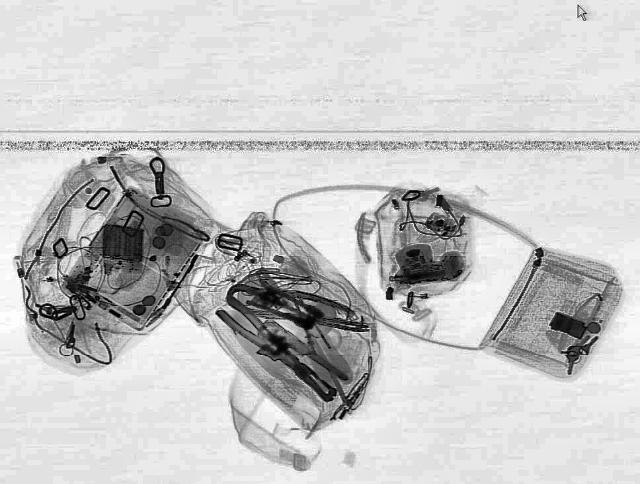Pliers: (204, 294, 320, 382)
